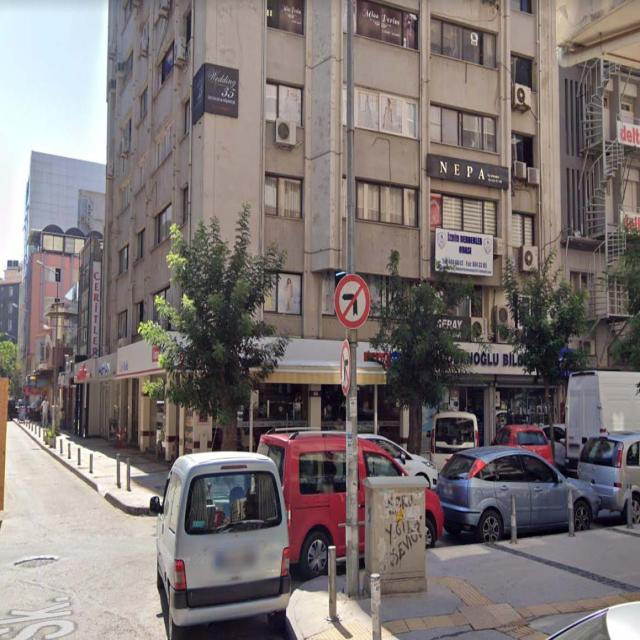sagadonulmez: (340, 339, 350, 396)
soladonulmez: (336, 274, 369, 329)
